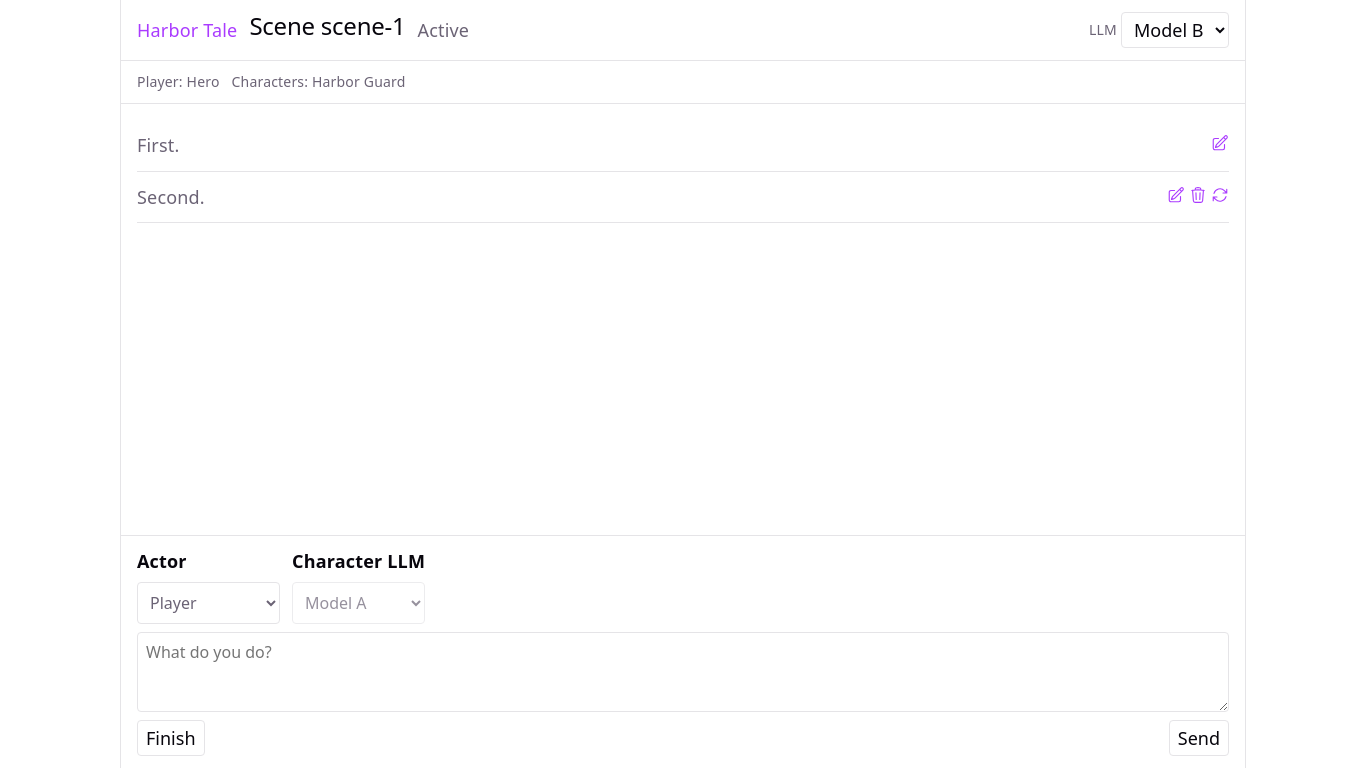
Test case: CharacterScenePage › keeps the inputs and shows an error when the turn fails
Expected: the text "First." is shown, left=137, top=133, right=180, bottom=157
Type "Look" into the text box named "Action" at (683, 672), box left=137, top=632, right=1229, bottom=712
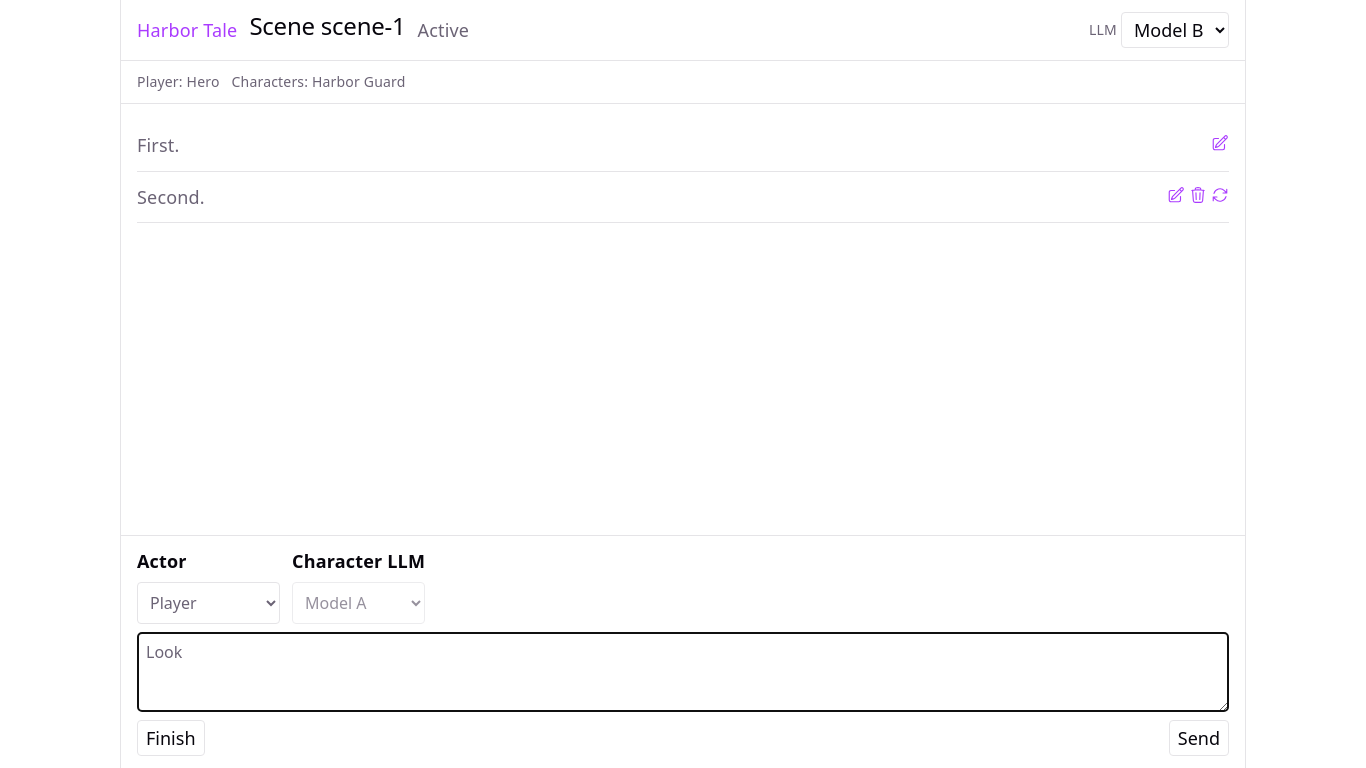
Click the button "Send" at (1199, 738), box left=1169, top=720, right=1229, bottom=756
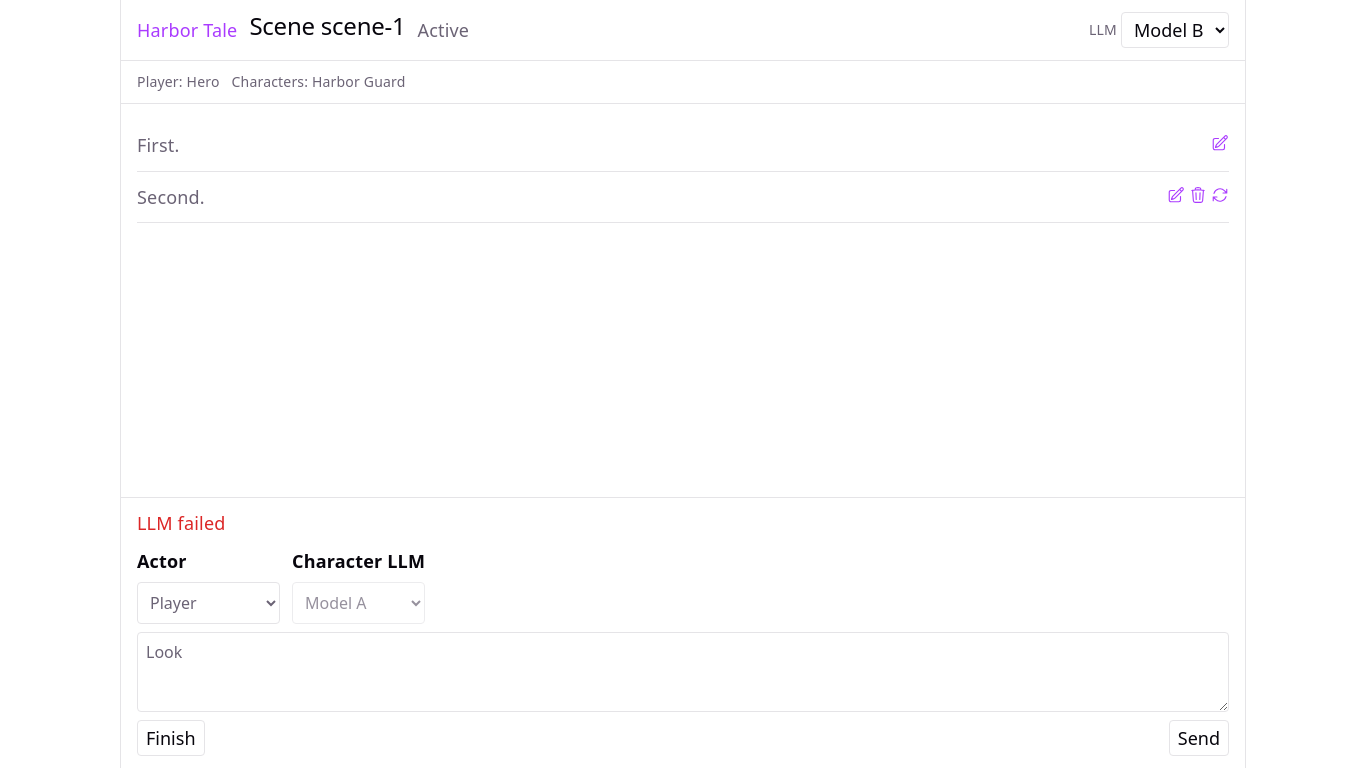
Expected: the message reads "LLM failed", left=137, top=511, right=226, bottom=535
